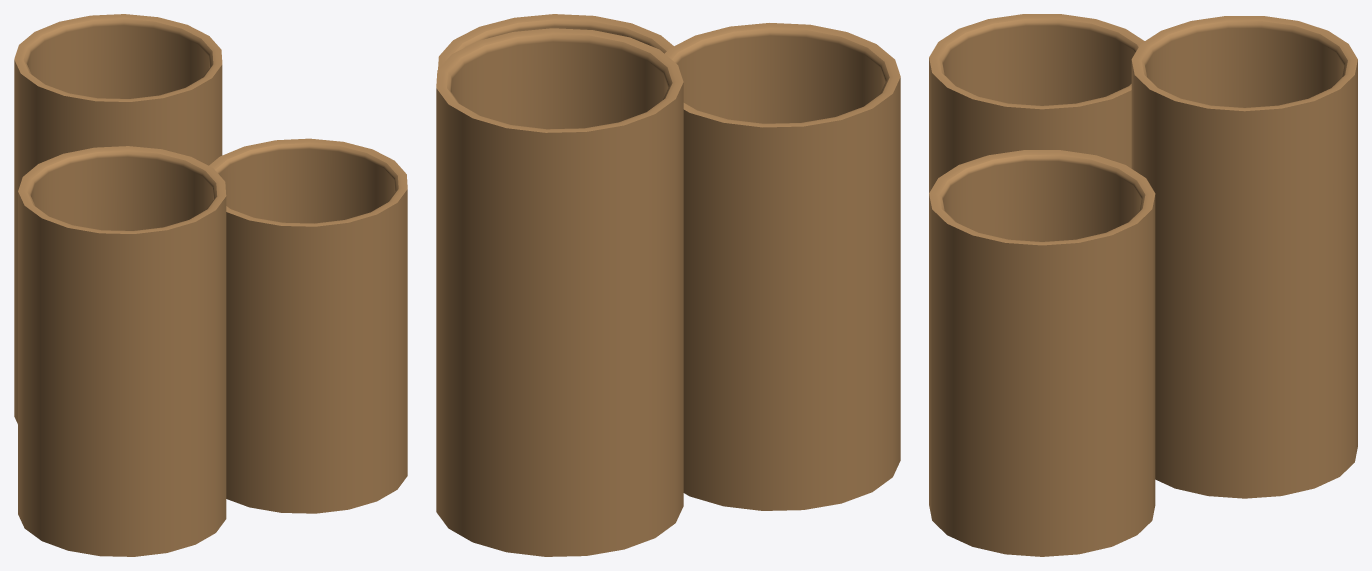
File: Copper Case.fbx
3 renders of one model, left to right at view 1: azimuth 30°, elevation 25°; view 2: azimuth 150°, elevation 25°; view 3: azimuth 270°, elevation 25°, orthographic. The views are drawn at different scales.
Visible parts, largest first — view 1: pCylinder19; view 2: pCylinder19; view 3: pCylinder19.
Part boxes in pixels (x1=…): pCylinder19: x1=14, y1=14, x2=407, y2=556; pCylinder19: x1=436, y1=14, x2=900, y2=556; pCylinder19: x1=929, y1=14, x2=1357, y2=556.
Size of the model in its own units: 0.7106 by 0.687 by 0.6727.
